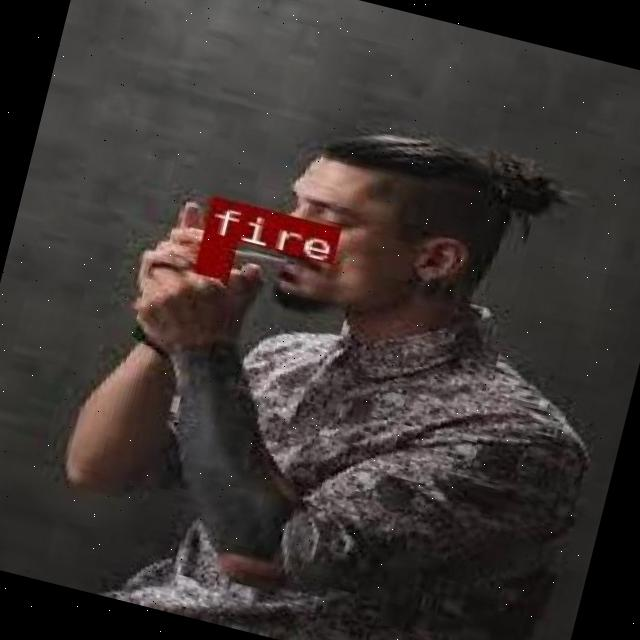fire: (193, 232, 231, 277)
